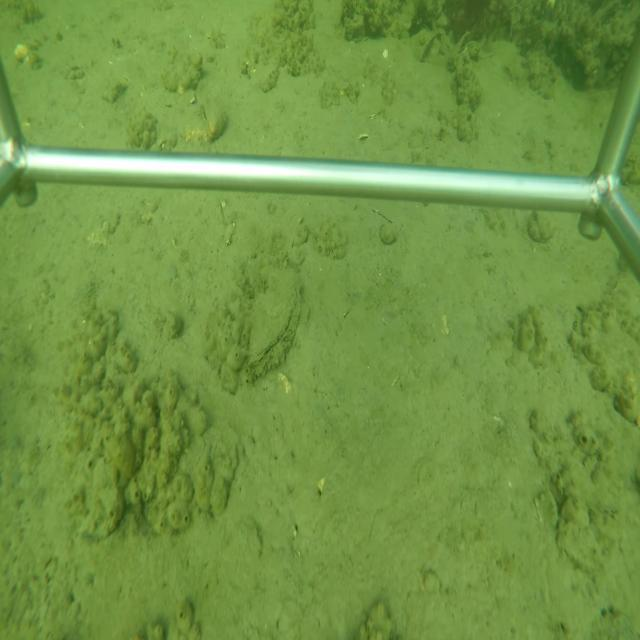Oyster-Closed: (235, 260, 303, 380), (417, 29, 451, 64)
Oyster-Open: (199, 95, 226, 144), (457, 28, 482, 58)
